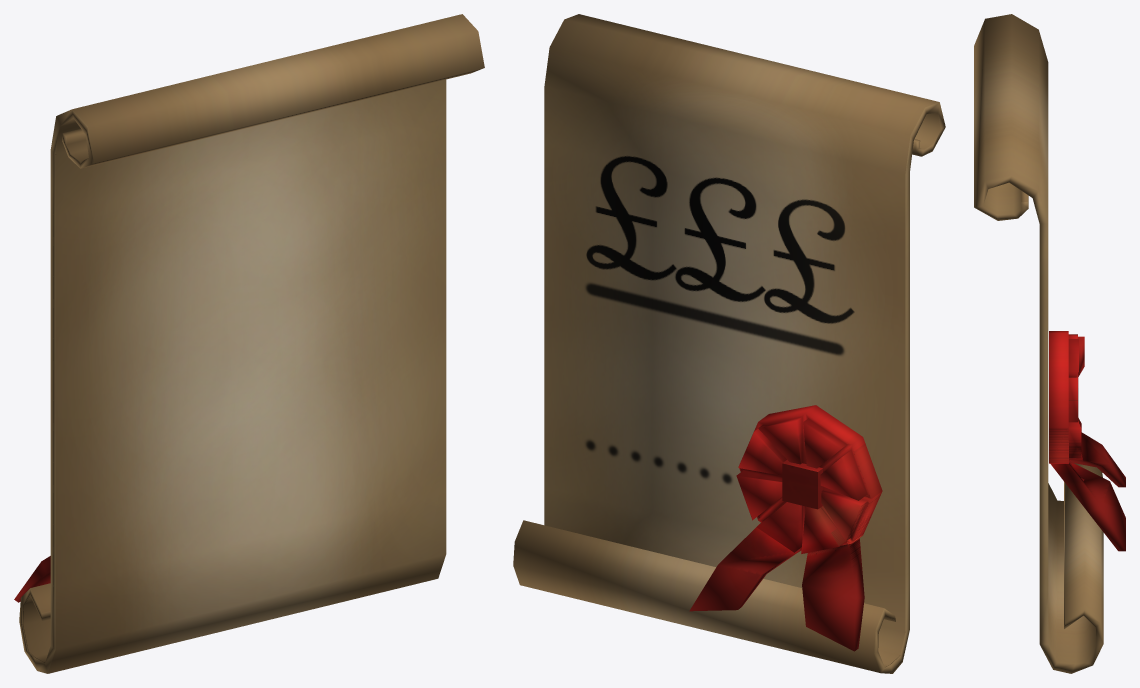
The model's file is Item_Grant.fbx.
3 renders of one model, left to right at view 1: azimuth 30°, elevation 25°; view 2: azimuth 150°, elevation 25°; view 3: azimuth 270°, elevation 25°, orthographic. The views are drawn at different scales.
Visible parts, largest first — view 1: Cylinder; view 2: Cylinder; view 3: Cylinder.
Part boxes in pixels (x1,y1,x2,y2): Cylinder: [14, 14, 484, 673]; Cylinder: [513, 14, 945, 673]; Cylinder: [974, 14, 1125, 673].
Bounding box in the file's own units: 54.38 × 77.88 × 21.52.
